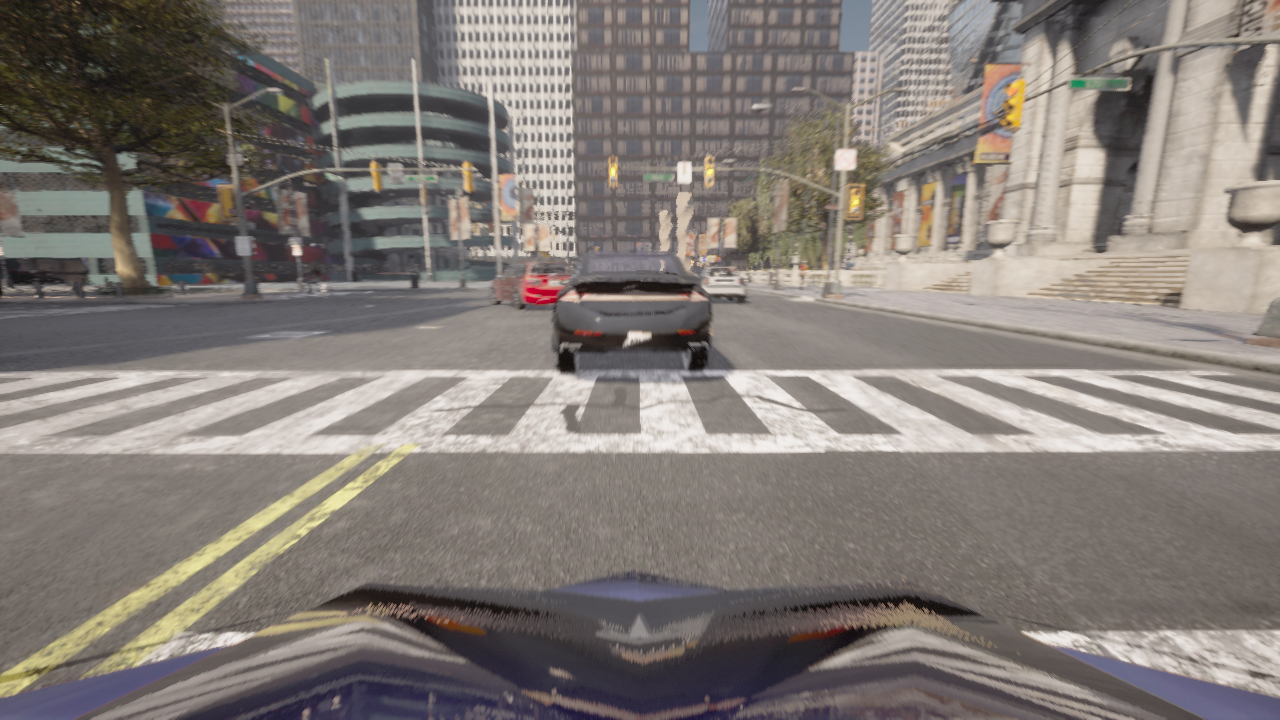cyclist: (0, 569, 1279, 719), (552, 250, 711, 372), (489, 260, 572, 309), (694, 266, 745, 302), (296, 277, 331, 297), (17, 269, 64, 283), (243, 266, 281, 273), (688, 269, 701, 278), (186, 269, 213, 273), (145, 271, 146, 272)
pedestrian: (799, 261, 807, 290)
